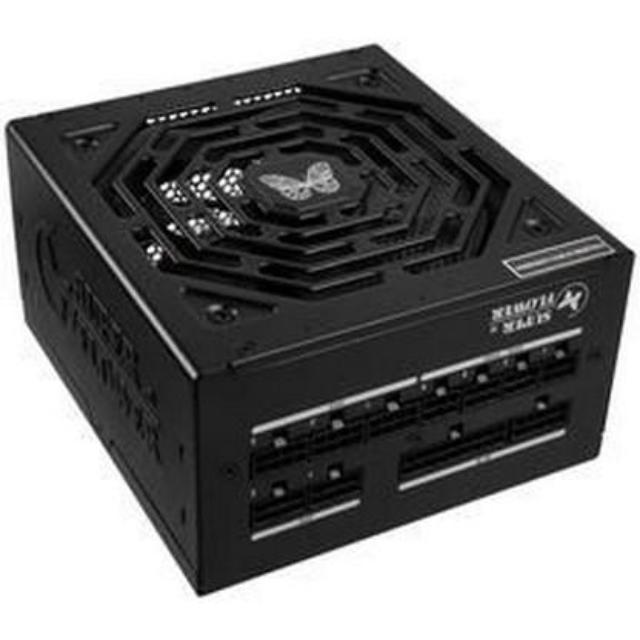PSU: (0, 30, 640, 612)
